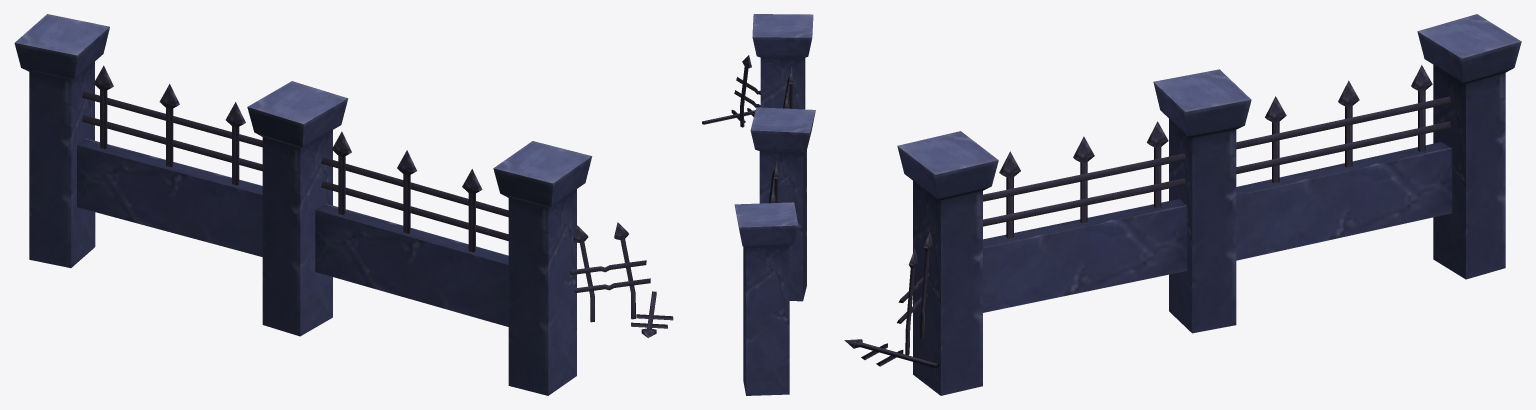
Rendered from Area09_21.fbx.
3 renders of one model, left to right at view 1: azimuth 30°, elevation 25°; view 2: azimuth 150°, elevation 25°; view 3: azimuth 270°, elevation 25°, orthographic. The views are drawn at different scales.
Parts seen in each view (by area): view 1: Area09_21; view 2: Area09_21; view 3: Area09_21.
Boxes of the visible parts, <box> form: Area09_21: <box>14,14,673,395</box>; Area09_21: <box>702,14,815,395</box>; Area09_21: <box>844,14,1521,395</box>.
Bounding box in the file's own units: 1131 × 618 × 1670.
